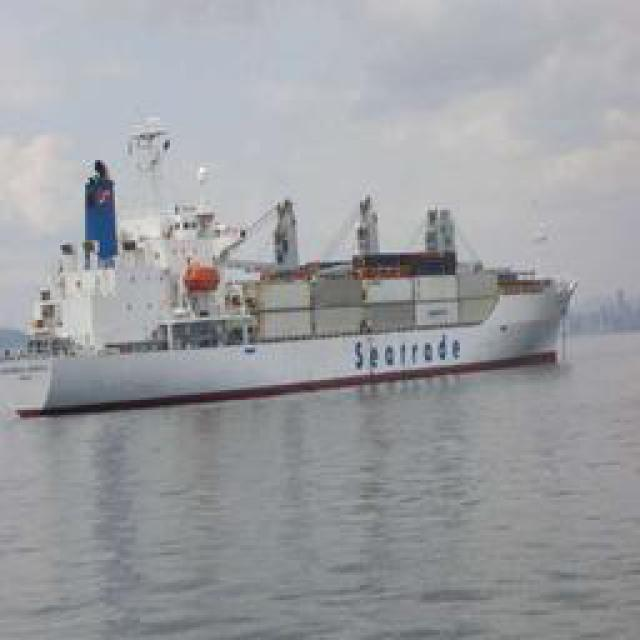Ship: (20, 175, 573, 415)
